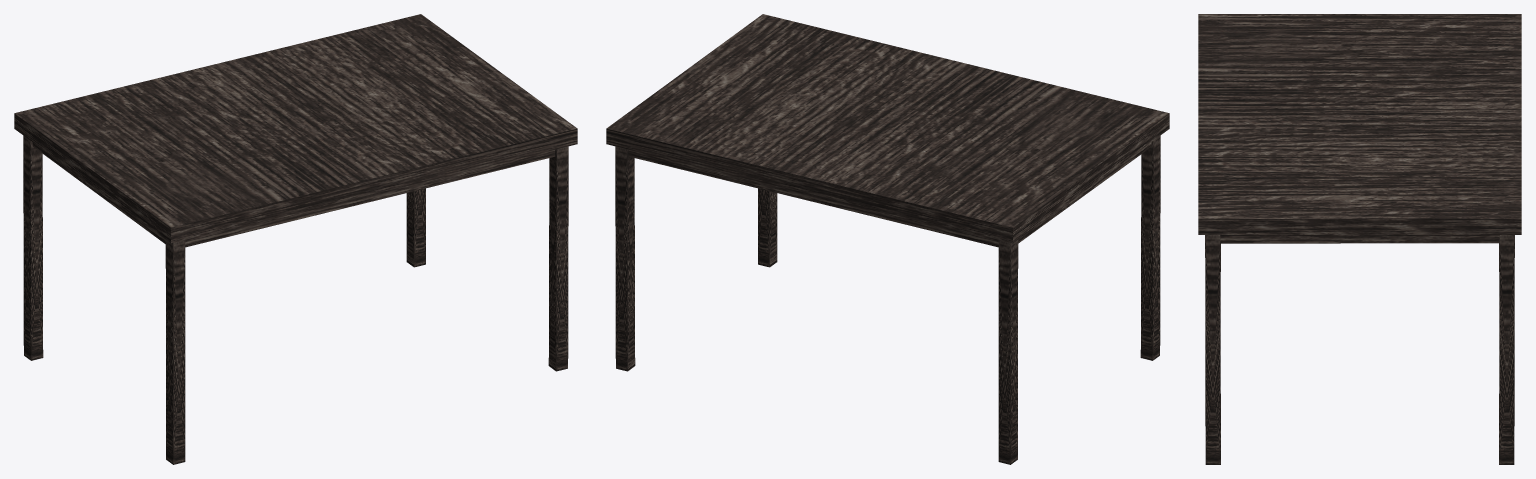
File: table.obj
The picture shows the model from 3 angles, left to right: view 1: azimuth 30°, elevation 25°; view 2: azimuth 150°, elevation 25°; view 3: azimuth 270°, elevation 25°; orthographic projection. The views are drawn at different scales.
Parts seen in each view (by area): view 1: table; view 2: table; view 3: table.
Boxes of the visible parts, x1,y1,x2,y2 form: table: (14,14,577,464); table: (606,14,1169,464); table: (1198,14,1521,464).
Bounding box in the file's own units: 3 × 1.7 × 2.
Materials: 1 (1 with a texture image).
